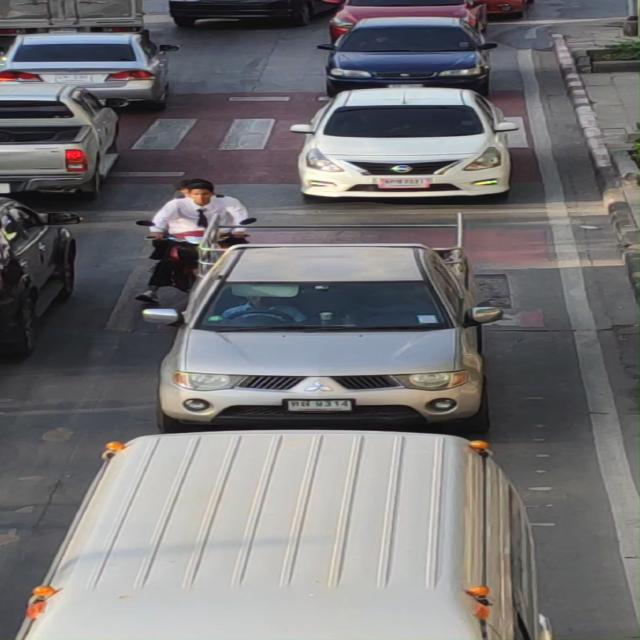car: (18, 430, 554, 640), (141, 232, 512, 427), (281, 76, 526, 205)
